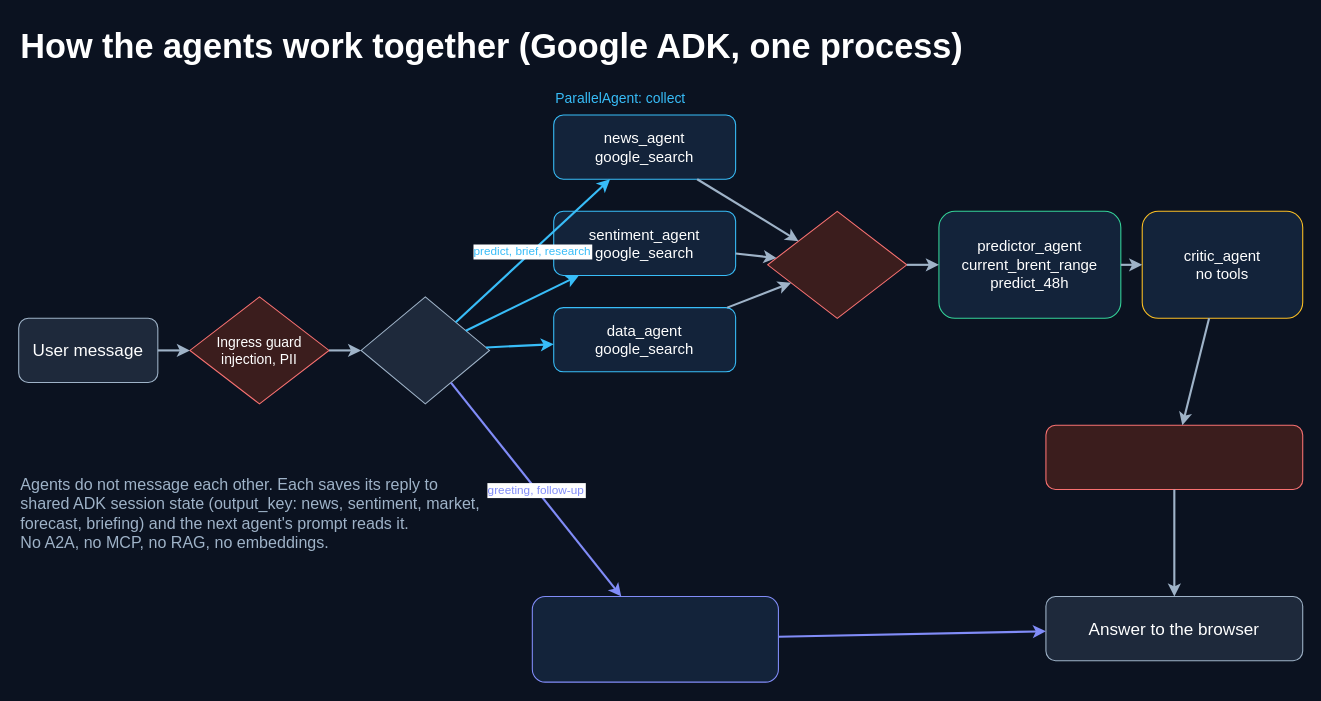
Some shapes in this 1321 by 701 pixel diagram are drawn without their labels. Each missing label, with the centre of its shape:
chat_agent tool: current_brent_range reads latest briefing: point (654, 638)
Egress guard + answer checks: point (1174, 457)
Research guard untrusted web text: point (837, 264)
route() app/main.py: point (425, 350)
